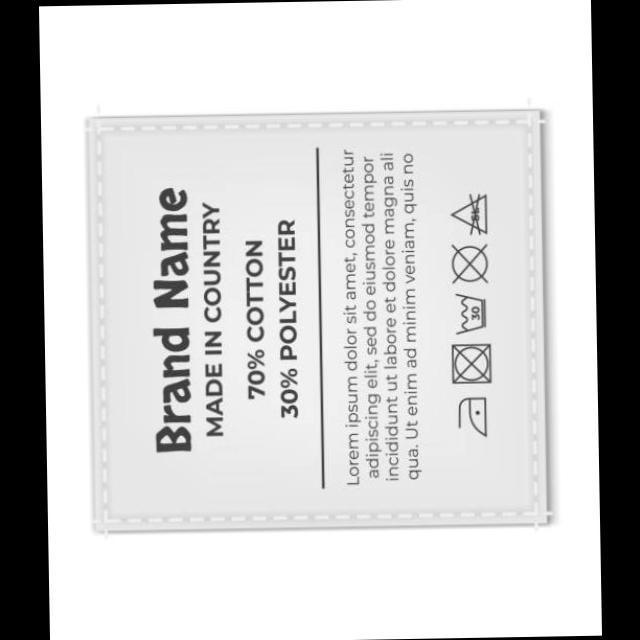30C: (452, 292, 488, 336)
DN_bleach: (448, 190, 490, 237)
DN_dry_clean: (446, 240, 489, 285)
DN_tumble_dry: (448, 340, 494, 384)
iron_low: (454, 393, 489, 438)
